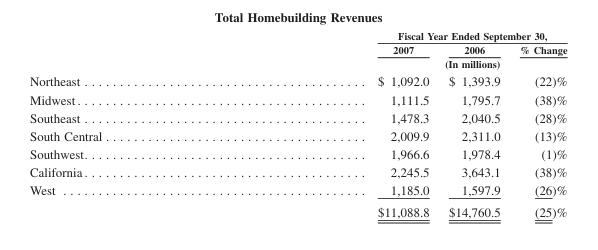table: (28, 29, 566, 218)
table column: (28, 29, 239, 218), (239, 29, 438, 218), (438, 29, 509, 218), (509, 29, 566, 218)
table column header: (28, 29, 566, 71)
table row: (28, 180, 566, 200), (28, 71, 566, 90), (28, 90, 566, 108), (28, 108, 566, 126), (28, 126, 566, 144), (28, 144, 566, 162), (28, 162, 566, 180), (28, 200, 566, 218), (28, 56, 566, 71), (28, 42, 566, 56), (28, 29, 566, 42)
table spanning cell: (239, 56, 566, 71), (239, 29, 566, 42)
